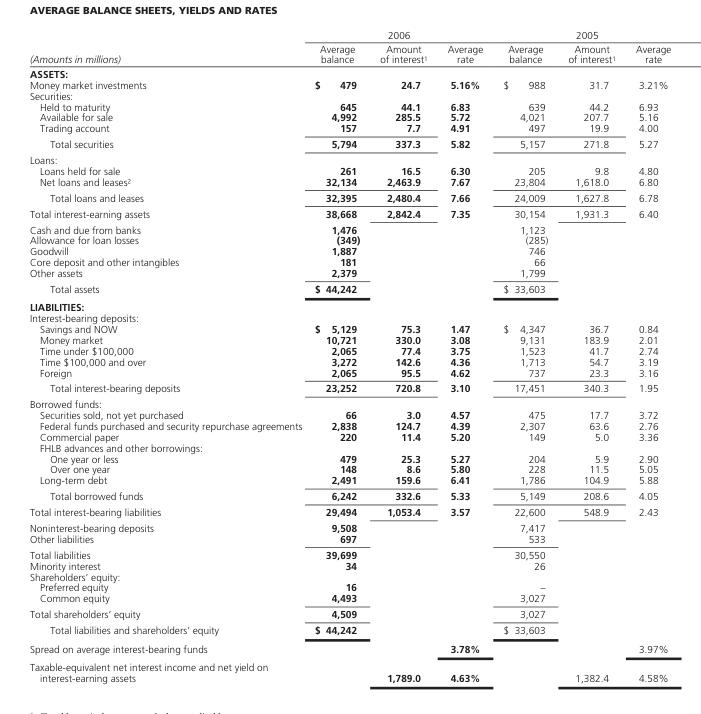table: (28, 29, 670, 683)
table column: (28, 29, 307, 683), (369, 29, 436, 683), (557, 29, 624, 683), (492, 29, 557, 683), (307, 29, 369, 683), (436, 29, 492, 683), (624, 29, 670, 683)
table column header: (28, 29, 670, 66)
table projected row header: (28, 297, 670, 312), (28, 151, 670, 165), (28, 396, 670, 409), (28, 66, 670, 78), (28, 89, 670, 100), (28, 312, 670, 323), (28, 441, 670, 452), (28, 570, 670, 581)
table row: (28, 657, 670, 683), (28, 41, 670, 66), (28, 638, 670, 657), (28, 280, 670, 297), (28, 379, 670, 396), (28, 621, 670, 638), (28, 135, 670, 151), (28, 189, 670, 205), (28, 205, 670, 221), (28, 487, 670, 503), (28, 503, 670, 519), (28, 605, 670, 621), (28, 297, 670, 312), (28, 151, 670, 165), (28, 175, 670, 189), (28, 519, 670, 533), (28, 122, 670, 135), (28, 221, 670, 234), (28, 267, 670, 280), (28, 366, 670, 379), (28, 396, 670, 409), (28, 474, 670, 487), (28, 533, 670, 546), (28, 546, 670, 559), (28, 592, 670, 605), (28, 29, 670, 41), (28, 66, 670, 78), (28, 78, 670, 89), (28, 89, 670, 100), (28, 100, 670, 111), (28, 111, 670, 122), (28, 234, 670, 245), (28, 245, 670, 256), (28, 256, 670, 267), (28, 312, 670, 323), (28, 323, 670, 334), (28, 344, 670, 355), (28, 355, 670, 366), (28, 409, 670, 420), (28, 420, 670, 431), (28, 441, 670, 452), (28, 452, 670, 463), (28, 463, 670, 474), (28, 559, 670, 570), (28, 570, 670, 581), (28, 581, 670, 592), (28, 165, 670, 175), (28, 334, 670, 344), (28, 431, 670, 441)
table spanning cell: (28, 29, 307, 66), (307, 29, 492, 41), (492, 29, 670, 41)
